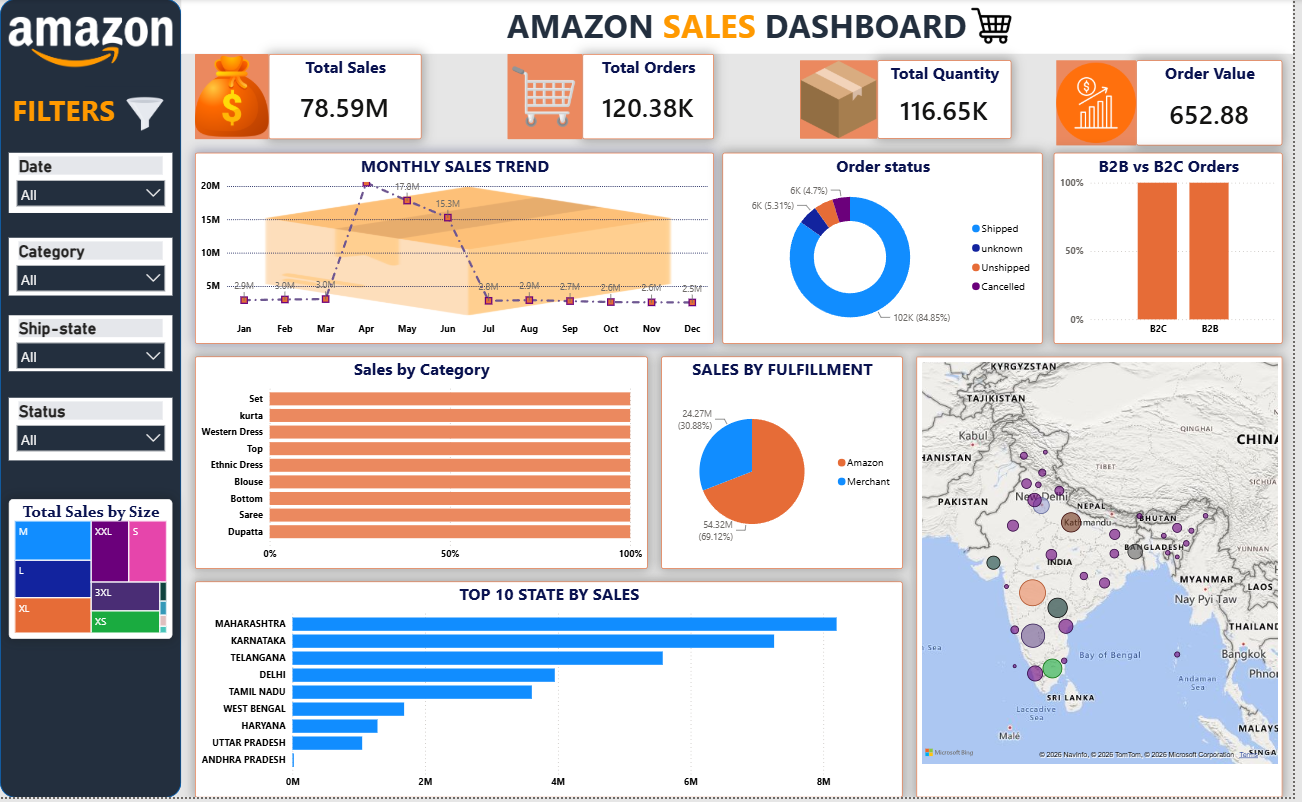

Layout of this report page (visuals, bound fields, positions):
{"tool":"powerbi","page":{"name":"Page 1","canvas":[1700,1050],"ordinal":0},"visuals":[{"type":"shape","box":[0,0,238.3,1050.3],"z":0},{"type":"image","box":[11.5,13.1,215.3,87.1],"z":1000},{"type":"textbox","box":[238.3,0,1461.3,72.3],"z":2000},{"type":"image","box":[1277.2,3.3,52.6,64.1],"z":3000},{"type":"cardVisual","title":"Total Sales","fields":{"Data":["Amazon_Cleaned_Final.Total Sales"]},"box":[353.4,72.3,200.5,111.8],"z":4000},{"type":"image","box":[256.4,72.3,97,111.8],"z":5000},{"type":"cardVisual","title":"Total Orders","fields":{"Data":["Amazon_Cleaned_Final.Total Orders"]},"box":[766,72.3,172.6,111.8],"z":6000},{"type":"cardVisual","title":"Total Quantity","fields":{"Data":["Amazon_Cleaned_Final.Total Quantity"]},"box":[1153.9,80.5,175.9,103.6],"z":7000},{"type":"image","box":[1052,80.5,101.9,103.6],"z":8000},{"type":"cardVisual","title":"Order Value","fields":{"Data":["calender.Average order value"]},"box":[1494.1,80.5,192.3,111.8],"z":9000},{"type":"image","box":[1388.9,80.5,105.2,111.8],"z":10000},{"type":"slicer","fields":{"Values":["Amazon_Cleaned_Final.Date.Variation.Date Hierarchy.Month"]},"box":[11.5,202.2,215.3,78.9],"z":11000},{"type":"slicer","fields":{"Values":["Amazon_Cleaned_Final.Category"]},"box":[11.5,313.9,215.3,75.6],"z":12000},{"type":"textbox","box":[11.9,115.3,200,69.5],"z":13000},{"type":"image","box":[154.5,118.3,72.3,65.7],"z":14000},{"type":"slicer","fields":{"Values":["Amazon_Cleaned_Final.Ship-state"]},"box":[11.5,415.9,215.3,74],"z":15000},{"type":"slicer","fields":{"Values":["Amazon_Cleaned_Final.Status"]},"box":[11.5,524.3,215.3,82.2],"z":16000},{"type":"lineChart","title":"MONTHLY SALES TREND","fields":{"Category":["calender.month name"],"Y":["Amazon_Cleaned_Final.Total Sales"]},"box":[256.4,202.2,682.1,251.5],"z":17000},{"type":"hundredPercentStackedBarChart","title":"Sales by Category","fields":{"Category":["Amazon_Cleaned_Final.Category"],"Y":["Amazon_Cleaned_Final.Total Sales"]},"box":[256.4,470.1,595,279.4],"z":18000},{"type":"barChart","title":"TOP 10 STATE BY SALES","fields":{"Category":["Amazon_Cleaned_Final.Ship-state"],"Y":["Amazon_Cleaned_Final.Total Sales"]},"box":[256.4,766,930.3,284.4],"z":19000},{"type":"treemap","fields":{"Group":["Amazon_Cleaned_Final.Size"],"Values":["Amazon_Cleaned_Final.Total Sales"]},"box":[11.5,657.5,215.3,184.1],"z":20000},{"type":"pieChart","title":"SALES BY FULFILLMENT","fields":{"Category":["Amazon_Cleaned_Final.Fulfilment"],"Y":["Amazon_Cleaned_Final.Total Sales"]},"box":[869.5,470.1,317.2,279.4],"z":21000},{"type":"hundredPercentStackedColumnChart","title":"B2B vs B2C Orders","fields":{"Category":["Amazon_Cleaned_Final.Customer Type"],"Y":["Amazon_Cleaned_Final.Total Orders"]},"box":[1385.7,202.2,300.8,251.5],"z":22000},{"type":"map","fields":{"Category":["Amazon_Cleaned_Final.Ship-state"],"Size":["Amazon_Cleaned_Final.Total Sales"]},"box":[1204.8,470.1,481.6,580.2],"z":23000},{"type":"image","box":[667.3,72.3,98.6,111.8],"z":24000},{"type":"donutChart","title":"Order status","fields":{"Category":["Amazon_Cleaned_Final.Courier status"],"Y":["Amazon_Cleaned_Final.Total Orders"]},"box":[950.1,202.2,420.8,251.5],"z":25000}]}

Visuals, with their boxes in screenshot pixels (x1, y1, x2, y2), scaled from the page's 1700x1050 canvas onto the 1302x802 screenshot:
shape: [left=0, top=0, right=183, bottom=801]
image: [left=9, top=10, right=174, bottom=77]
textbox: [left=183, top=0, right=1301, bottom=55]
image: [left=978, top=3, right=1018, bottom=51]
"Total Sales" cardVisual: [left=271, top=55, right=424, bottom=141]
image: [left=196, top=55, right=271, bottom=141]
"Total Orders" cardVisual: [left=587, top=55, right=719, bottom=141]
"Total Quantity" cardVisual: [left=884, top=61, right=1018, bottom=141]
image: [left=806, top=61, right=884, bottom=141]
"Order Value" cardVisual: [left=1144, top=61, right=1292, bottom=147]
image: [left=1064, top=61, right=1144, bottom=147]
slicer - Amazon_Cleaned_Final.Date.Variation.Date Hierarchy.Month: [left=9, top=154, right=174, bottom=215]
slicer - Amazon_Cleaned_Final.Category: [left=9, top=240, right=174, bottom=298]
textbox: [left=9, top=88, right=162, bottom=141]
image: [left=118, top=90, right=174, bottom=141]
slicer - Amazon_Cleaned_Final.Ship-state: [left=9, top=318, right=174, bottom=374]
slicer - Amazon_Cleaned_Final.Status: [left=9, top=400, right=174, bottom=463]
"MONTHLY SALES TREND" lineChart: [left=196, top=154, right=719, bottom=347]
"Sales by Category" hundredPercentStackedBarChart: [left=196, top=359, right=652, bottom=572]
"TOP 10 STATE BY SALES" barChart: [left=196, top=585, right=909, bottom=801]
treemap - Amazon_Cleaned_Final.Size x Amazon_Cleaned_Final.Total Sales: [left=9, top=502, right=174, bottom=643]
"SALES BY FULFILLMENT" pieChart: [left=666, top=359, right=909, bottom=572]
"B2B vs B2C Orders" hundredPercentStackedColumnChart: [left=1061, top=154, right=1292, bottom=347]
map - Amazon_Cleaned_Final.Ship-state x Amazon_Cleaned_Final.Total Sales: [left=923, top=359, right=1292, bottom=801]
image: [left=511, top=55, right=587, bottom=141]
"Order status" donutChart: [left=728, top=154, right=1050, bottom=347]
